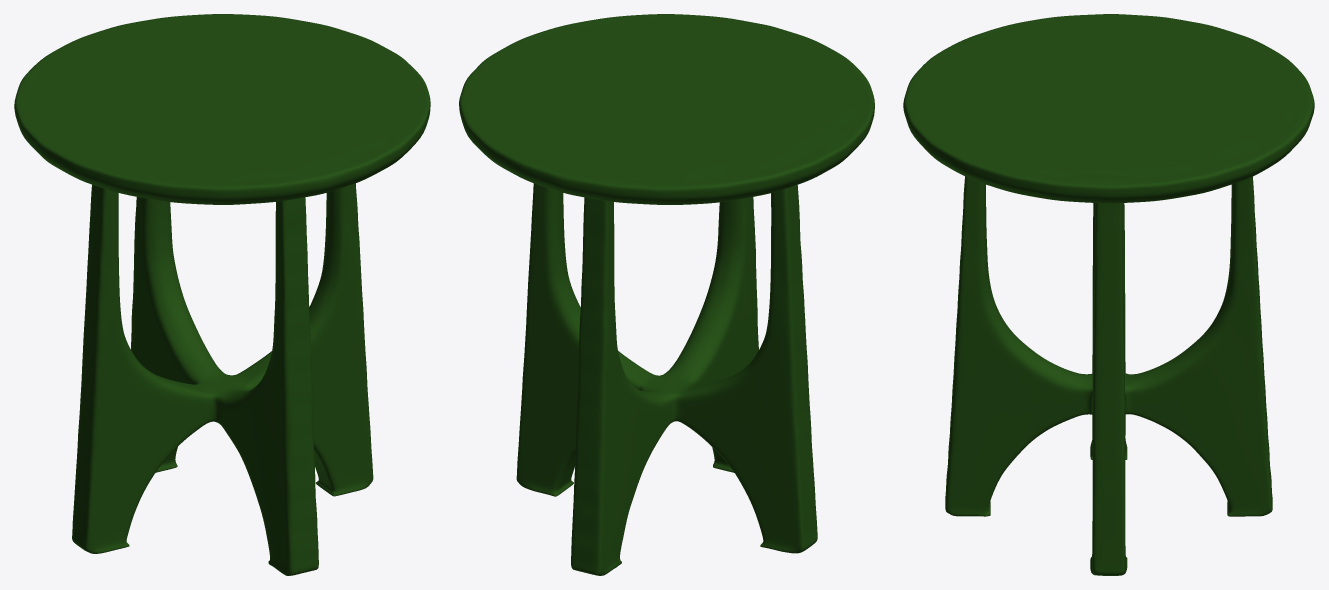
Rendered from Table.glb.
3 views of the same model, side by side, from view 1: azimuth 30°, elevation 25°; view 2: azimuth 150°, elevation 25°; view 3: azimuth 270°, elevation 25° (orthographic).
Visible parts, largest first — view 1: Table; view 2: Table; view 3: Table.
Part boxes in pixels (<box>): Table: <box>14,14,430,575</box>; Table: <box>459,14,874,575</box>; Table: <box>903,14,1314,575</box>.
Size of the model in its own units: 0.508 by 0.5588 by 0.508.
